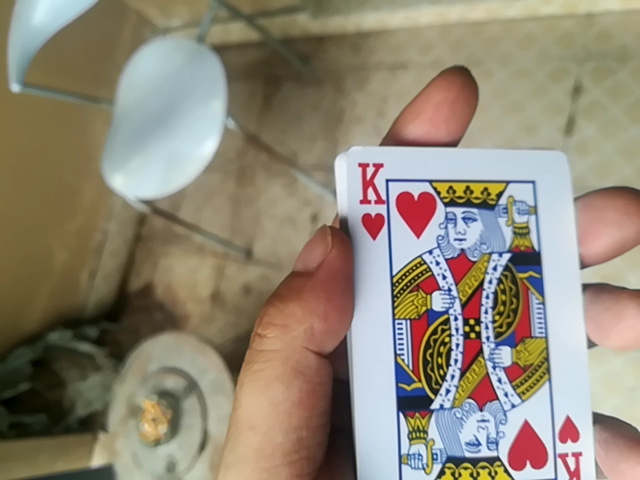hx k: (350, 141, 616, 478)
